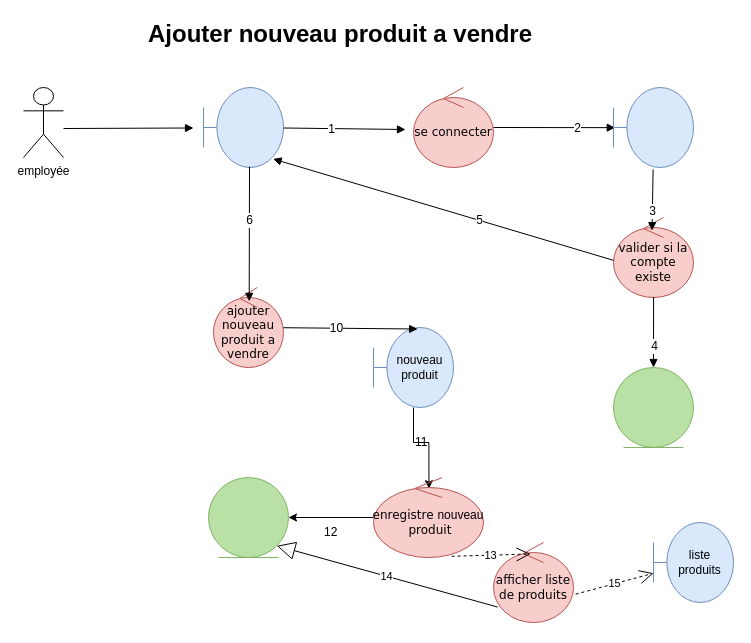
Some shapes in this 751 by 643 pixel diagram are drawn without their labels. Here are the shapes that lost their labels. From the top down, the centre of each, then its label:
At pixel 243 127: "accueil".
At pixel 653 127: "login".
At pixel 653 407: "table utilisateurs".
At pixel 248 517: "table produits".
